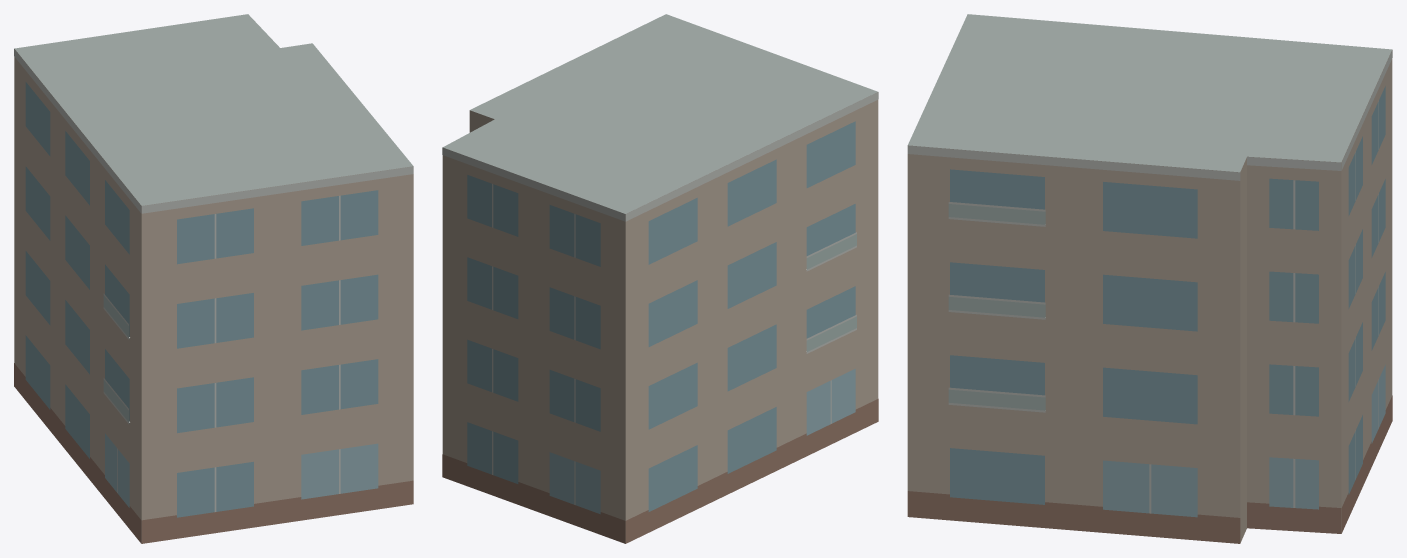
The model's file is survey-upis-32788376.glb.
The picture shows the model from 3 angles, left to right: view 1: azimuth 30°, elevation 25°; view 2: azimuth 150°, elevation 25°; view 3: azimuth 270°, elevation 25°; orthographic projection. The views are drawn at different scales.
Parts seen in each view (by area): view 1: survey-upis-32788376.tmp; view 2: survey-upis-32788376.tmp; view 3: survey-upis-32788376.tmp.
Boxes of the visible parts, <box> form: survey-upis-32788376.tmp: <box>14,14,413,543</box>; survey-upis-32788376.tmp: <box>442,14,878,543</box>; survey-upis-32788376.tmp: <box>907,14,1392,543</box>.
Bounding box in the file's own units: 9.6 × 10.5 × 12.43.
